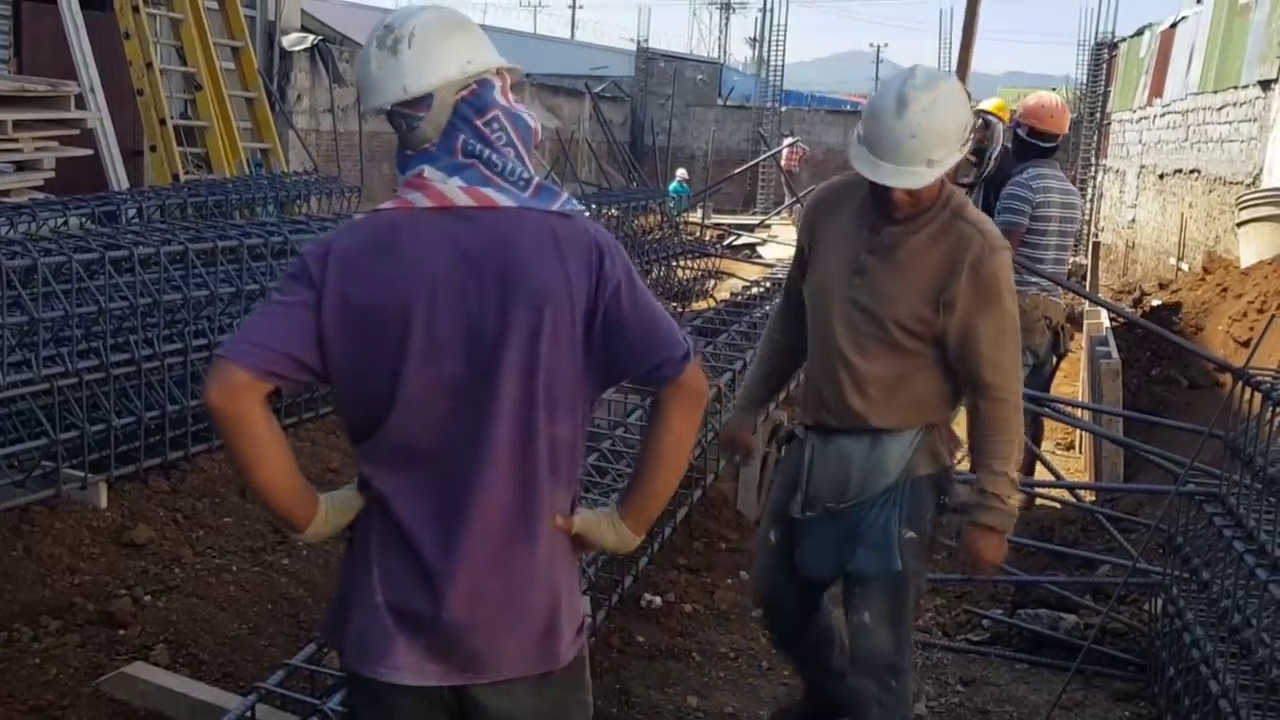helmet: (351, 4, 505, 116), (847, 70, 979, 192), (1012, 87, 1072, 136), (972, 97, 1009, 124), (675, 168, 689, 179)
helmet-off: (779, 124, 797, 139)
helmet-on: (352, 4, 541, 174), (848, 69, 978, 230), (1012, 88, 1072, 162), (779, 125, 809, 219), (972, 97, 1008, 148), (674, 167, 690, 183)
person: (223, 4, 711, 720), (748, 65, 1024, 720), (977, 92, 1081, 504), (668, 167, 692, 216)
